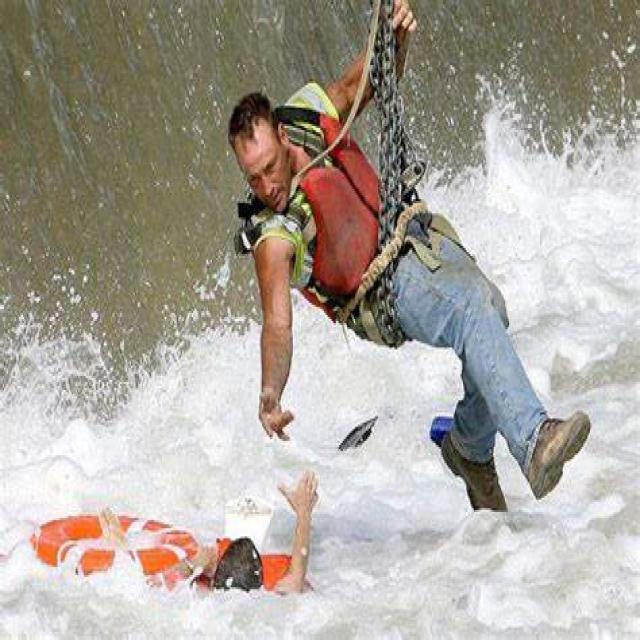drowning: (161, 458, 369, 623)
